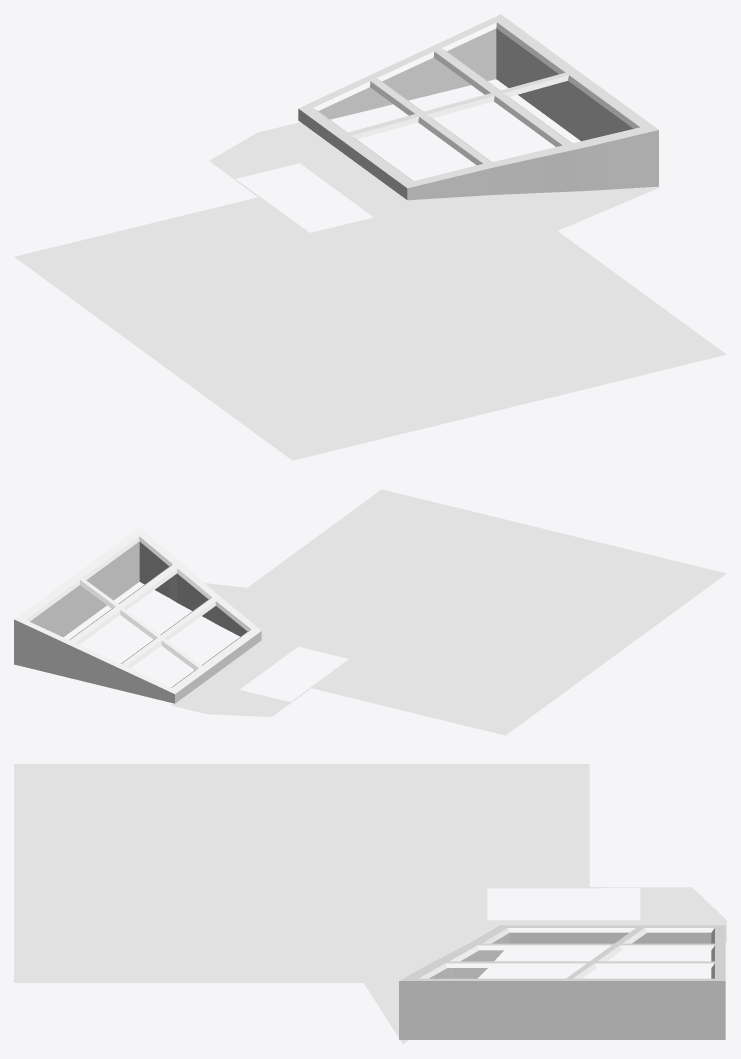
File: Main_Roof.FBX
3 views of the same model, one above another, from view 1: azimuth 30°, elevation 25°; view 2: azimuth 150°, elevation 25°; view 3: azimuth 270°, elevation 25° (orthographic). The views are drawn at different scales.
Parts seen in each view (by area): view 1: Box065; view 2: Box065; view 3: Box065.
Boxes of the visible parts, x1,y1,x2,y2 form: Box065: (14, 14, 726, 460); Box065: (14, 489, 726, 735); Box065: (14, 764, 726, 1044).
Size of the model in its own units: 12.64 by 1.29 by 13.56.
